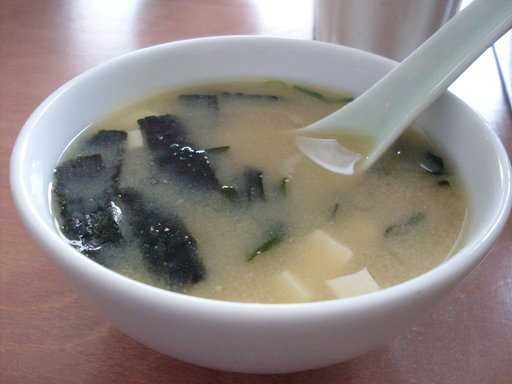soup: (50, 61, 456, 303)
